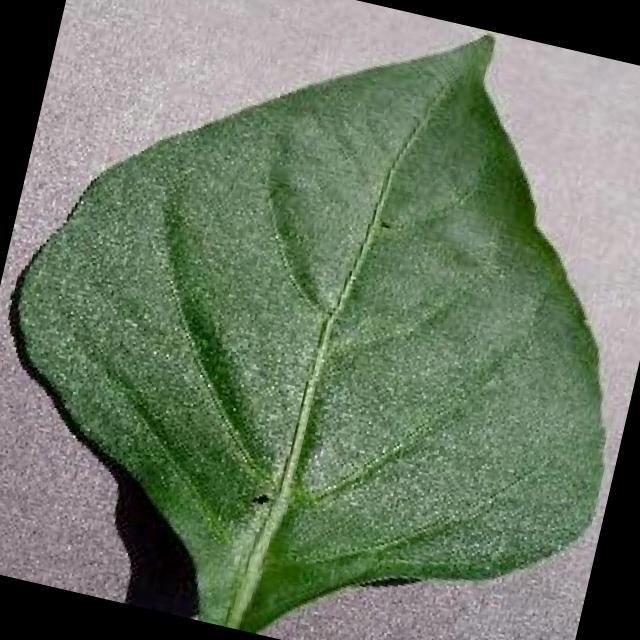Leaf: (184, 113, 611, 522)
